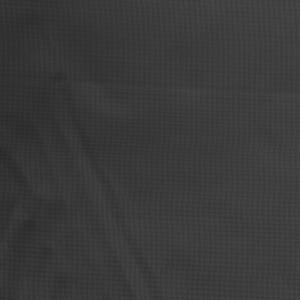Wrinkle: (1, 1, 169, 300), (1, 56, 300, 110)
